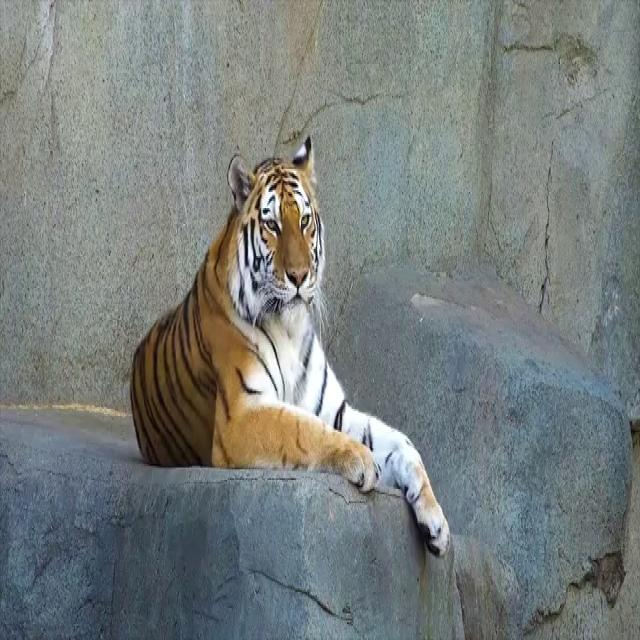tiger: (129, 134, 451, 556)
